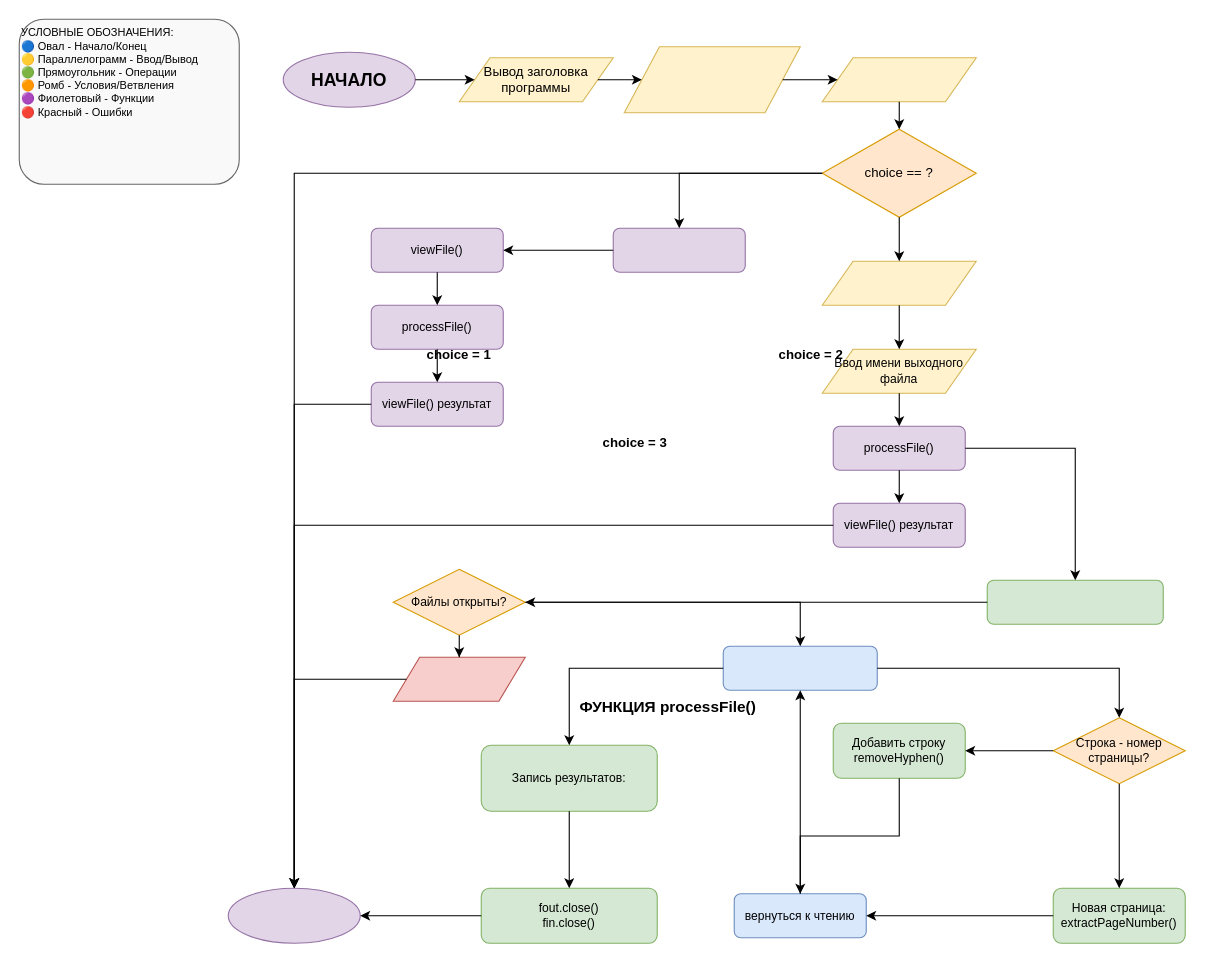
Some shapes in this 1205 by 966 pixel diagram are drawn without their labels. The centre of each missing label's shape, as x and y in pixels:
"createTestFile()" belongs at point (678, 249).
"while getline()" belongs at point (799, 667).
"Ввод выбора (choice)" belongs at point (898, 79).
"Ввод имени входного файла" belongs at point (898, 282).
"Вывод меню: 1 - Создать тест 2 - Обработать 3 - Выход" belongs at point (711, 79).
"Вывод ошибки" belongs at point (458, 678).
"КОНЕЦ" belongs at point (293, 915).
"Открытие файлов ifstream / ofstream" belongs at point (1074, 601).
